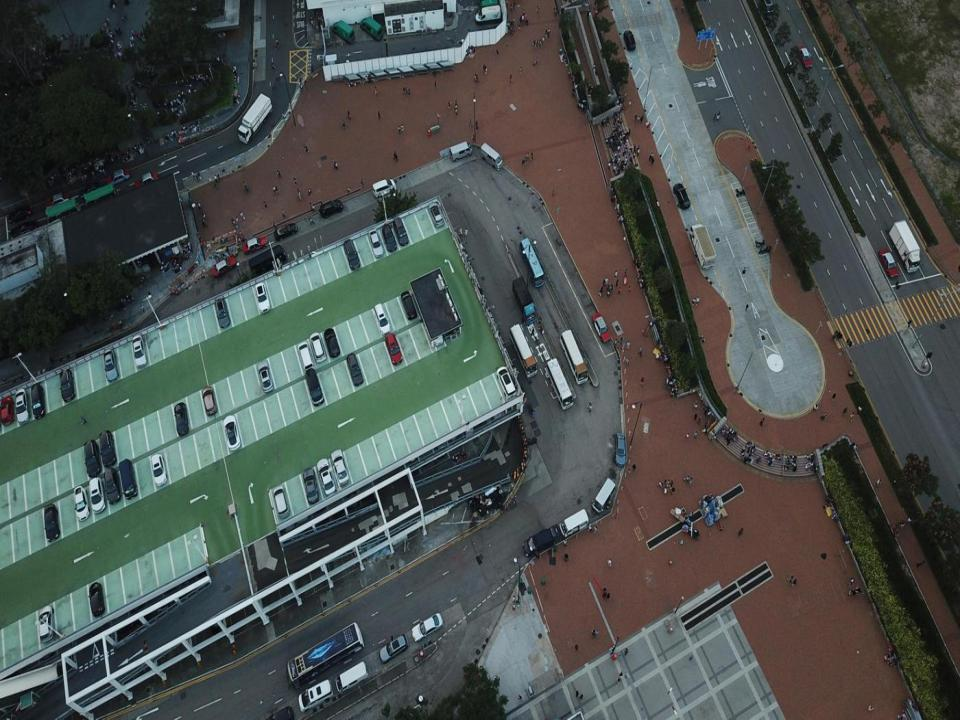bus: (287, 622, 366, 688), (560, 329, 588, 385), (509, 324, 537, 378), (546, 358, 573, 410), (520, 238, 544, 288)
car: (379, 634, 409, 664), (413, 612, 443, 642), (496, 367, 520, 401), (330, 449, 350, 485), (317, 458, 336, 495), (84, 439, 102, 477), (42, 502, 59, 541), (73, 485, 90, 523), (88, 478, 106, 513), (223, 414, 240, 451), (210, 255, 236, 279), (99, 430, 116, 466), (88, 582, 105, 618), (878, 248, 898, 278), (38, 605, 54, 642), (302, 467, 318, 503), (592, 312, 610, 344), (273, 485, 290, 518), (344, 239, 361, 272), (104, 468, 120, 503), (59, 368, 75, 402), (39, 626, 55, 660), (347, 352, 363, 386), (10, 220, 37, 239), (386, 334, 402, 366), (174, 402, 189, 436), (400, 290, 417, 320), (324, 327, 340, 358), (15, 389, 30, 422), (152, 453, 167, 486), (31, 384, 45, 419), (344, 474, 358, 509), (214, 299, 230, 329), (103, 349, 118, 381), (310, 332, 326, 362), (132, 334, 146, 368), (674, 182, 691, 210), (242, 236, 267, 255), (255, 282, 270, 313), (274, 222, 298, 241), (319, 200, 343, 219), (128, 580, 142, 612), (258, 360, 272, 392), (368, 229, 384, 257), (382, 224, 398, 252), (614, 433, 627, 467), (294, 492, 307, 524), (7, 206, 31, 223), (134, 171, 158, 188), (0, 396, 14, 425), (202, 386, 216, 415), (394, 218, 408, 247), (428, 202, 444, 227), (298, 342, 312, 370), (78, 182, 102, 198), (106, 168, 130, 184), (45, 192, 70, 207), (266, 706, 293, 719), (182, 551, 192, 586), (281, 507, 294, 533), (798, 47, 812, 70), (406, 432, 416, 464), (433, 433, 445, 458), (623, 30, 636, 52), (761, 1, 775, 21), (435, 425, 445, 449), (156, 591, 167, 612), (122, 608, 132, 629), (492, 398, 502, 419), (446, 422, 457, 440)
truck: (237, 92, 273, 144), (889, 220, 920, 272), (512, 277, 537, 324), (690, 224, 716, 269)
van: (522, 524, 559, 558), (298, 679, 334, 712), (249, 245, 287, 274), (336, 660, 368, 692), (591, 478, 616, 514), (118, 458, 138, 500), (560, 508, 588, 536), (306, 367, 324, 407), (331, 19, 355, 46), (480, 142, 502, 170), (374, 303, 391, 337), (449, 140, 473, 162), (475, 5, 501, 25), (372, 178, 396, 199), (361, 17, 382, 41), (477, 0, 499, 11)
